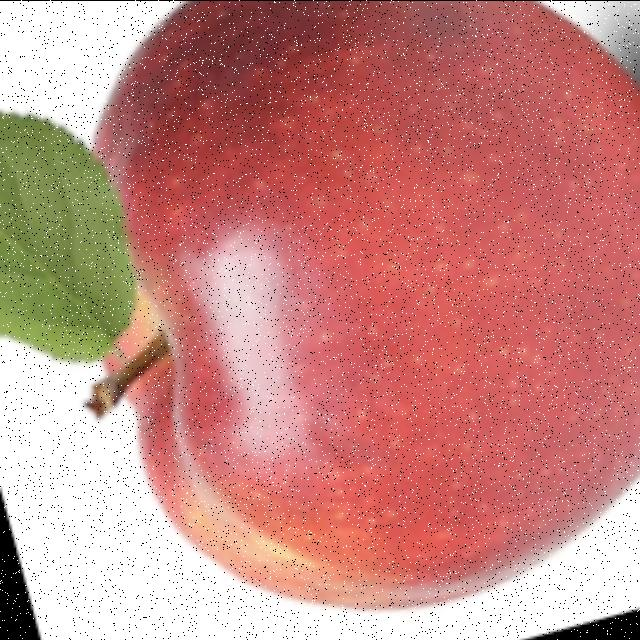Apel Segar: (62, 1, 640, 626)
